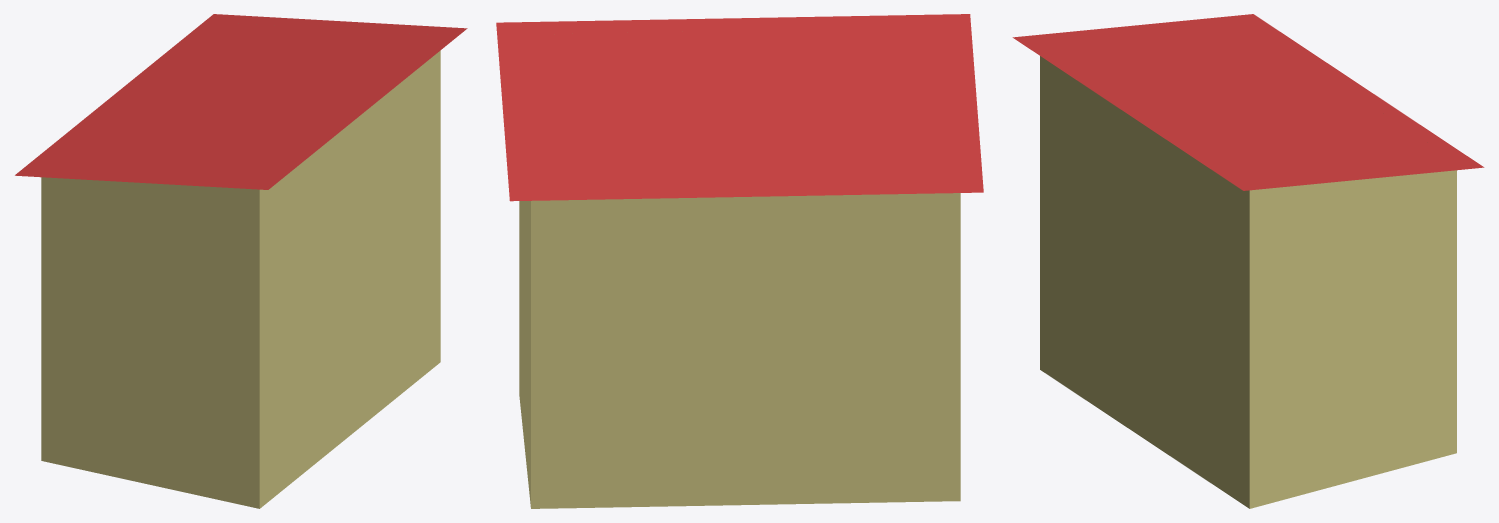
The picture shows the model from 3 angles, left to right: view 1: azimuth 30°, elevation 25°; view 2: azimuth 150°, elevation 25°; view 3: azimuth 270°, elevation 25°; orthographic projection. The views are drawn at different scales.
Bounding box in the file's own units: 12.85 × 11.74 × 9.04.
